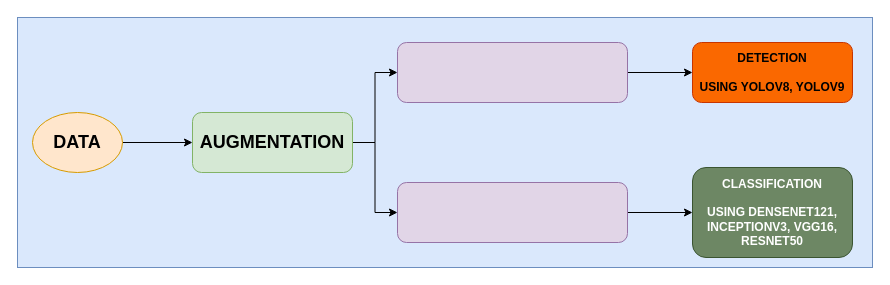
The diagram is 890 pixels wide and 285 high, and some of its shapes have lost their labels. Here are the shapes that lost their labels. From the top down, the centre of each, then its label:
the point at 512,72: LABELS - IMAGES (TRAIN, TEST, VAL) - COORDINATE.TXT (TRAIN, TEST, VAL)
the point at 512,212: FOLDER IMAGES (TRAIN, VAL, TEST)
